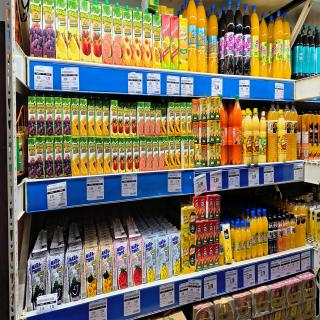Juice: (273, 9, 284, 78), (282, 10, 291, 81), (252, 4, 260, 77), (260, 10, 268, 78), (27, 95, 38, 136), (36, 94, 46, 136), (36, 136, 45, 181), (267, 12, 273, 78), (46, 136, 55, 178), (27, 138, 36, 179), (79, 100, 88, 138), (80, 136, 88, 177), (137, 101, 146, 137), (46, 96, 54, 136), (72, 137, 80, 177), (96, 136, 104, 176), (72, 99, 80, 138), (95, 99, 103, 137), (111, 137, 119, 174), (139, 136, 147, 172), (181, 135, 189, 170), (111, 99, 118, 137), (174, 102, 181, 139), (144, 101, 151, 137), (188, 134, 195, 168), (147, 136, 153, 174), (169, 137, 176, 169), (156, 101, 162, 138), (124, 102, 130, 138), (159, 136, 165, 171), (186, 101, 192, 136), (126, 138, 132, 172), (206, 121, 215, 143), (207, 144, 215, 168), (199, 98, 207, 122), (199, 121, 207, 144), (207, 96, 214, 119), (195, 143, 202, 166), (215, 96, 221, 120)
beverage: (223, 0, 235, 72), (231, 94, 242, 165), (242, 1, 252, 76), (234, 1, 243, 76), (302, 23, 309, 78), (226, 100, 232, 164), (308, 23, 315, 75), (293, 43, 302, 80), (272, 214, 279, 253), (268, 218, 274, 255), (295, 82, 296, 82)
